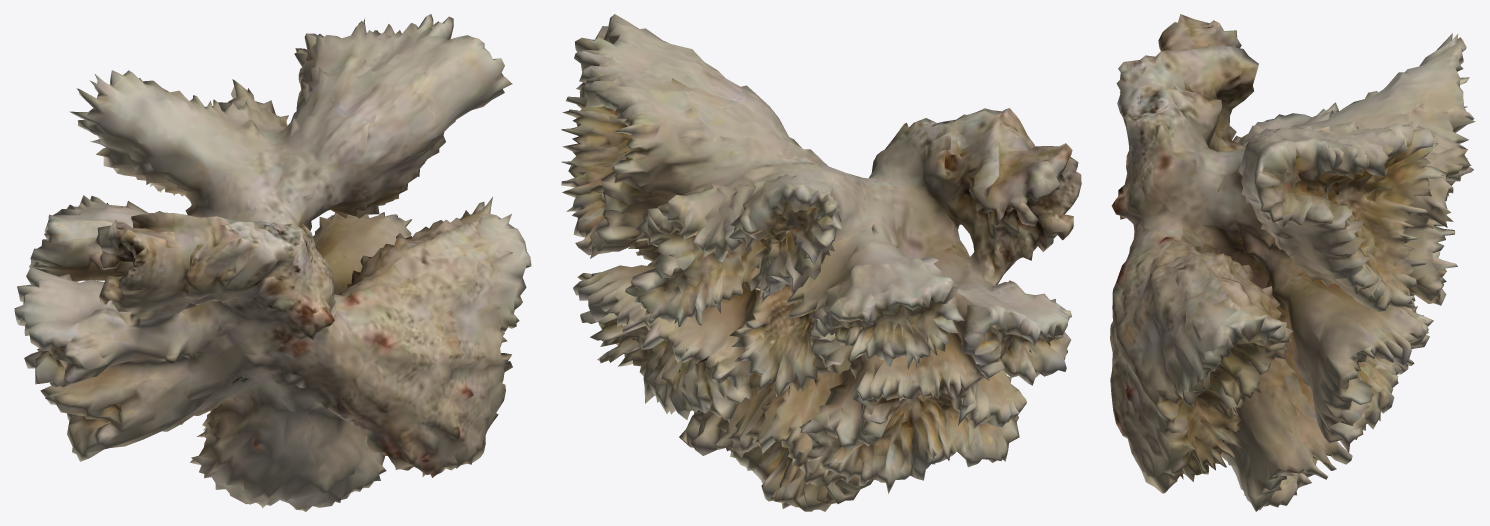
The model's file is mussa.glb.
3 views of the same model, side by side, from view 1: azimuth 30°, elevation 25°; view 2: azimuth 150°, elevation 25°; view 3: azimuth 270°, elevation 25° (orthographic). The views are drawn at different scales.
Visible parts, largest first — view 1: mesh_0; view 2: mesh_0; view 3: mesh_0.
Part boxes in pixels (box(x1,y1,x2,y2)): mesh_0: box(14, 14, 531, 511); mesh_0: box(561, 14, 1081, 511); mesh_0: box(1110, 14, 1475, 511).
Bounding box in the file's own units: 0.1194 × 0.1041 × 0.0785.
Materials: 1 (1 with a texture image).
